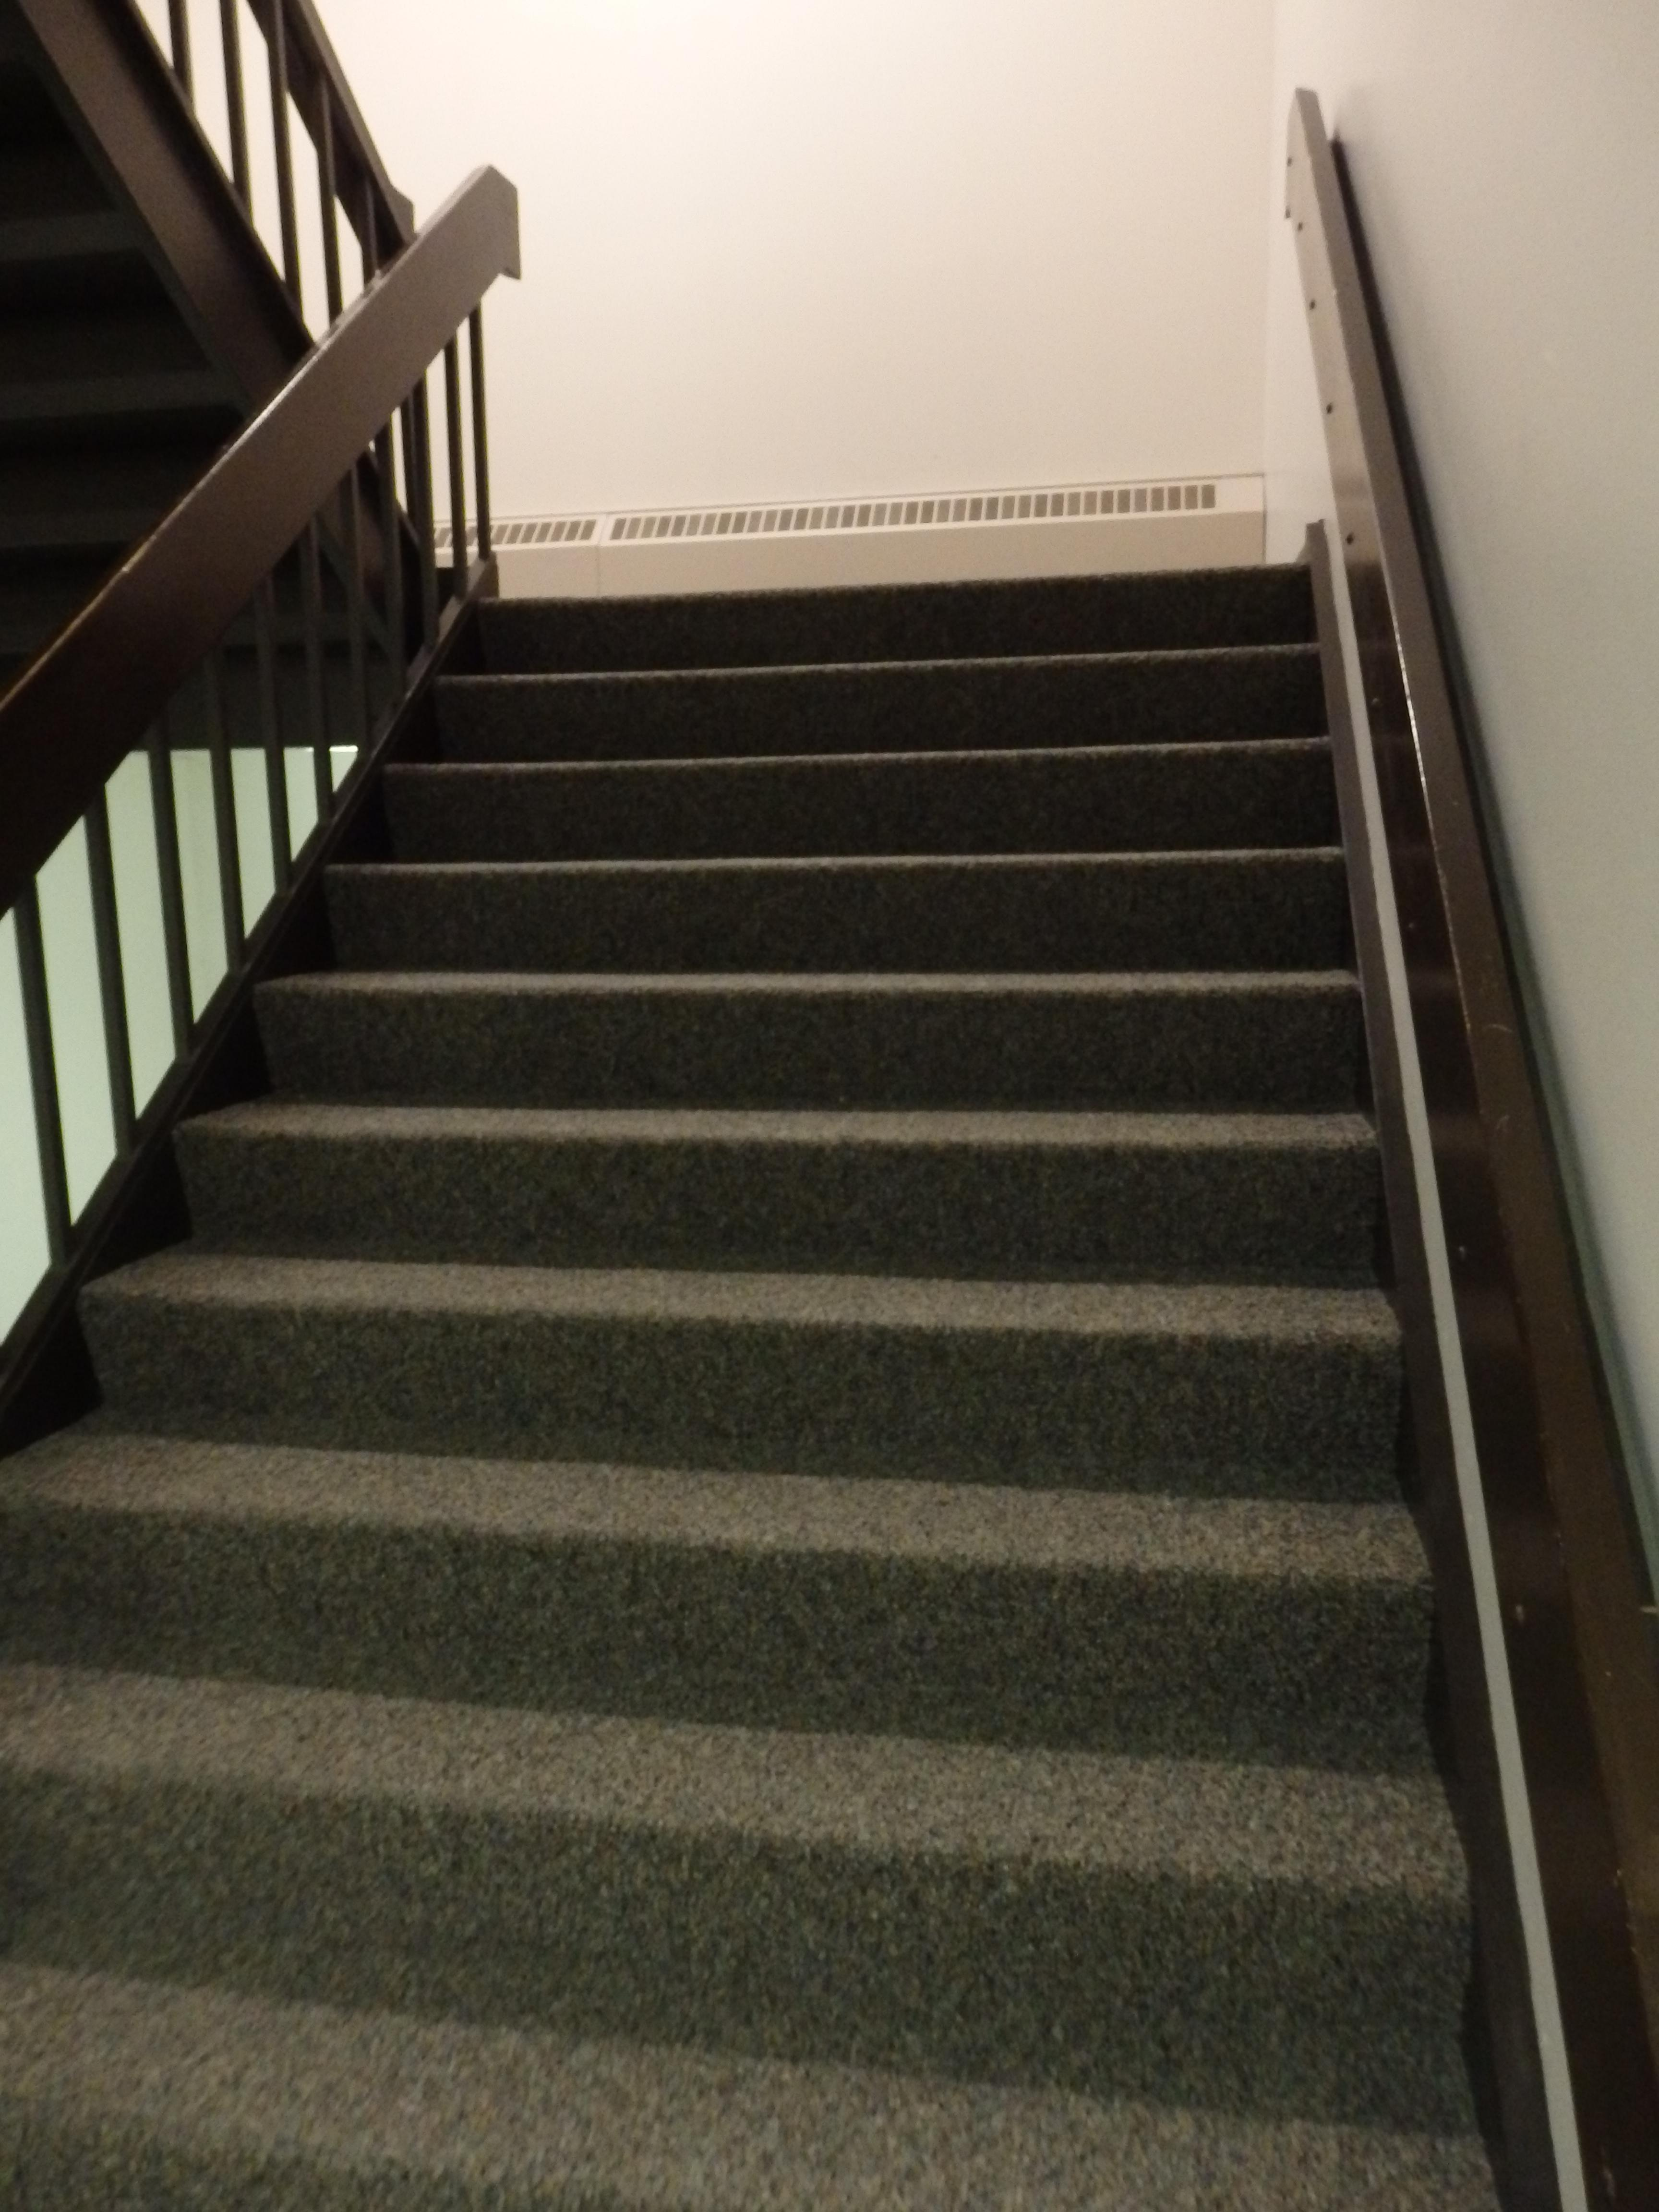stairs_up: (68, 545, 1302, 1935)
